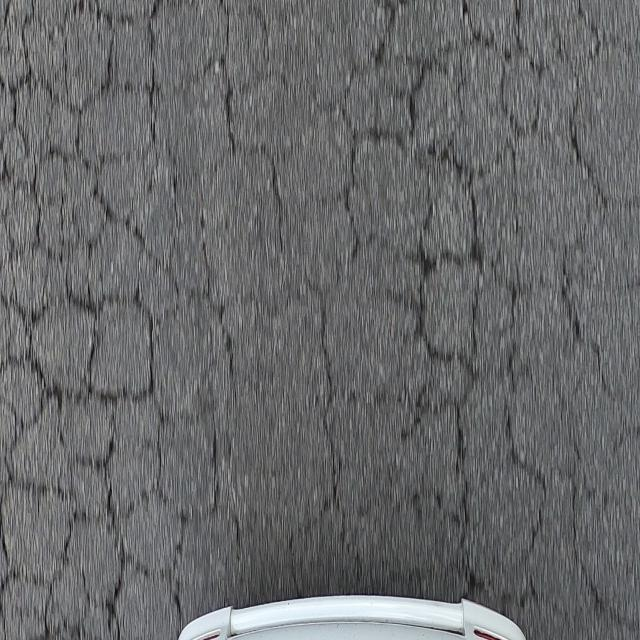Retak-Buaya: (346, 0, 640, 640), (0, 1, 230, 640)
